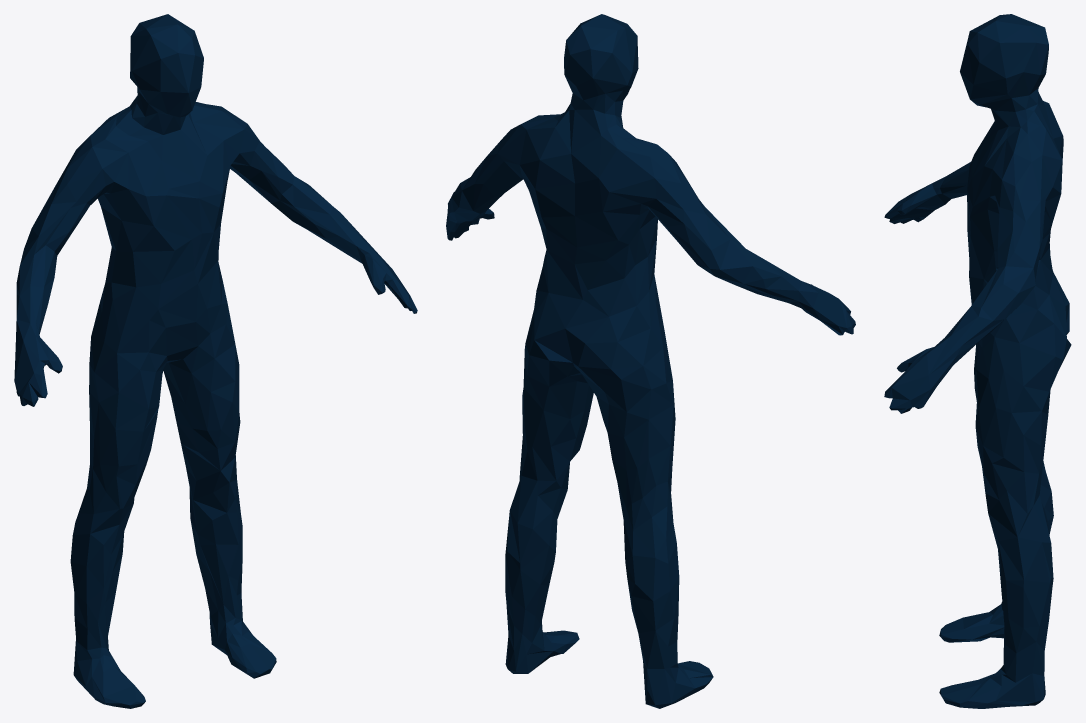
Rendered from NoRig.fbx.
3 renders of one model, left to right at view 1: azimuth 30°, elevation 25°; view 2: azimuth 150°, elevation 25°; view 3: azimuth 270°, elevation 25°, orthographic.
Visible parts, largest first — view 1: Body; view 2: Body; view 3: Body.
Part boxes in pixels (x1,y1,x2,y2): Body: [14, 14, 417, 708]; Body: [446, 14, 855, 708]; Body: [884, 14, 1071, 708].
Bounding box in the file's own units: 1.14 × 1.81 × 0.4713.
